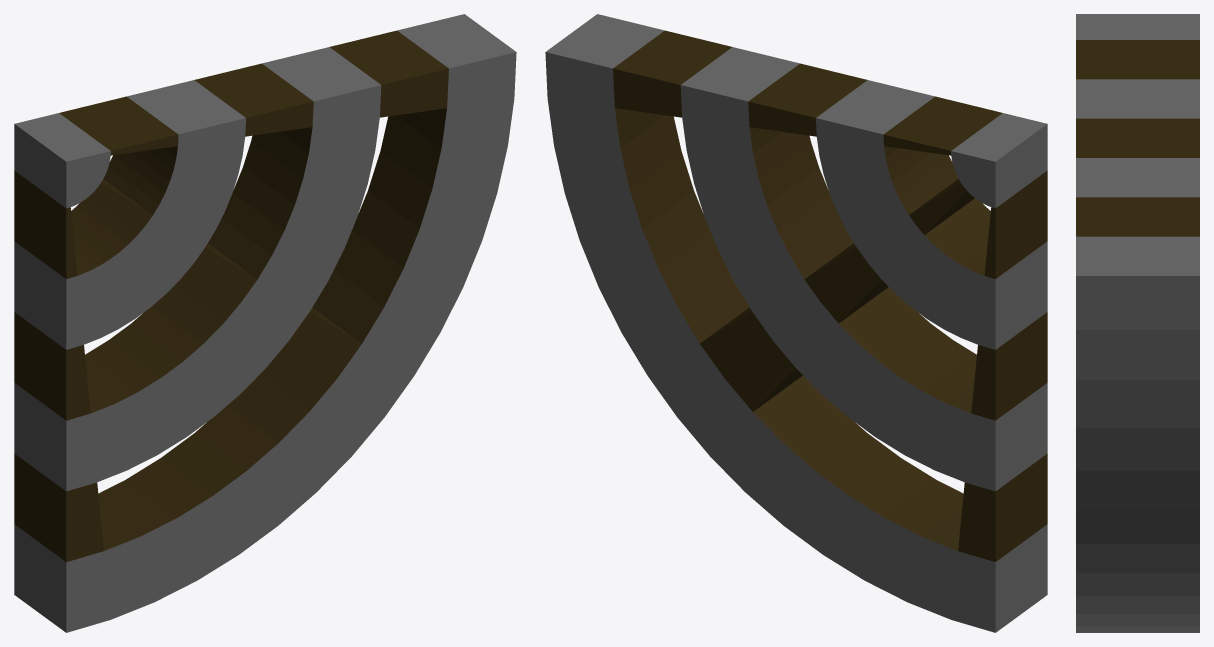
The model's file is static_wall_quarter.fbx.
3 views of the same model, side by side, from view 1: azimuth 30°, elevation 25°; view 2: azimuth 150°, elevation 25°; view 3: azimuth 270°, elevation 25° (orthographic). The views are drawn at different scales.
Parts seen in each view (by area): view 1: Cylinder; view 2: Cylinder; view 3: Cylinder.
Boxes of the visible parts, left/top/right/bottom form: Cylinder: left=14, top=14, right=516, bottom=632; Cylinder: left=545, top=14, right=1047, bottom=632; Cylinder: left=1076, top=14, right=1199, bottom=632.
Size of the model in its own units: 100 by 100 by 20.
